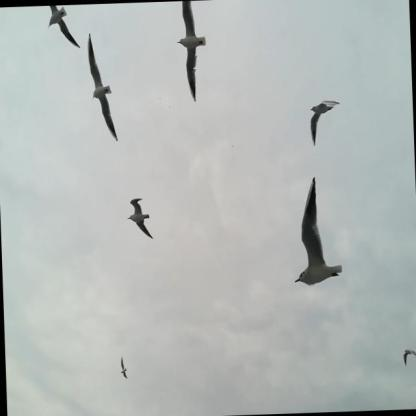bird: (288, 165, 345, 293), (86, 28, 120, 144), (175, 0, 209, 110), (41, 5, 83, 55), (304, 96, 343, 148), (124, 193, 156, 242), (400, 343, 416, 367), (116, 355, 129, 380)
